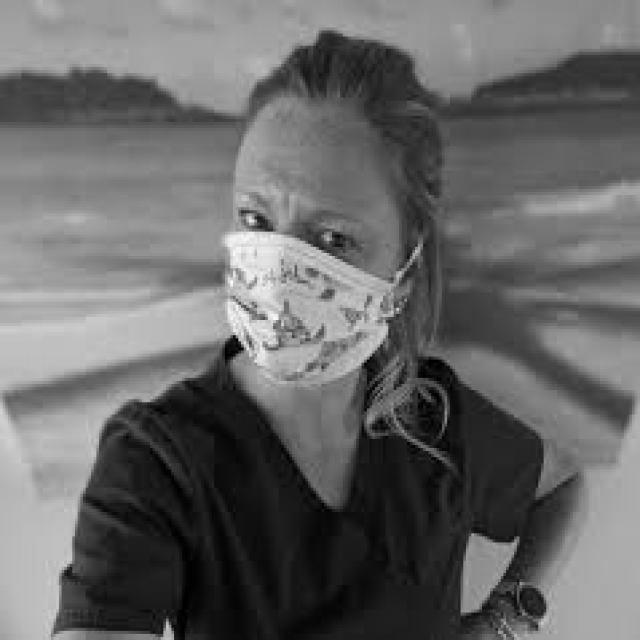fake: (209, 210, 419, 406)
real: (227, 109, 413, 397)
